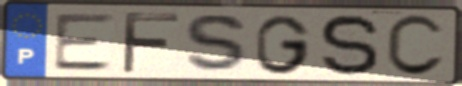C: (383, 13, 448, 80)
E: (51, 12, 118, 73)
F: (118, 10, 183, 76)
G: (254, 13, 314, 76)
S: (182, 12, 253, 76), (317, 12, 382, 78)
